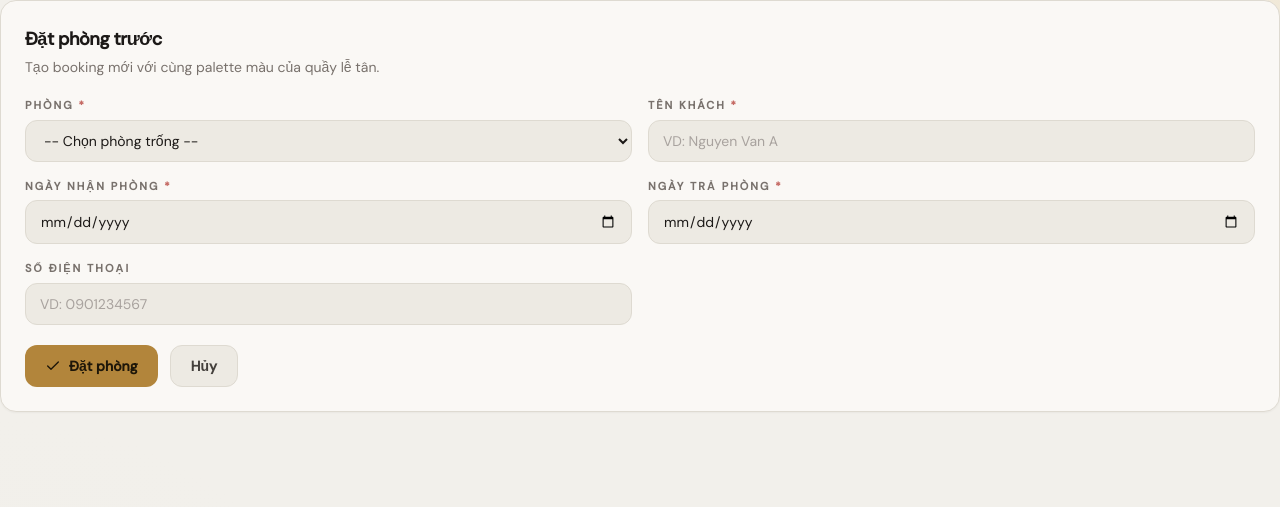
Test: CreateBookingForm › shows phone validation error for invalid phone number
This screenshot has width=1280, height=507.
Type "abc123" into the field with placeholder "VD: 0901234567".
click(328, 304); type("abc123")  # box [25, 282, 632, 324]
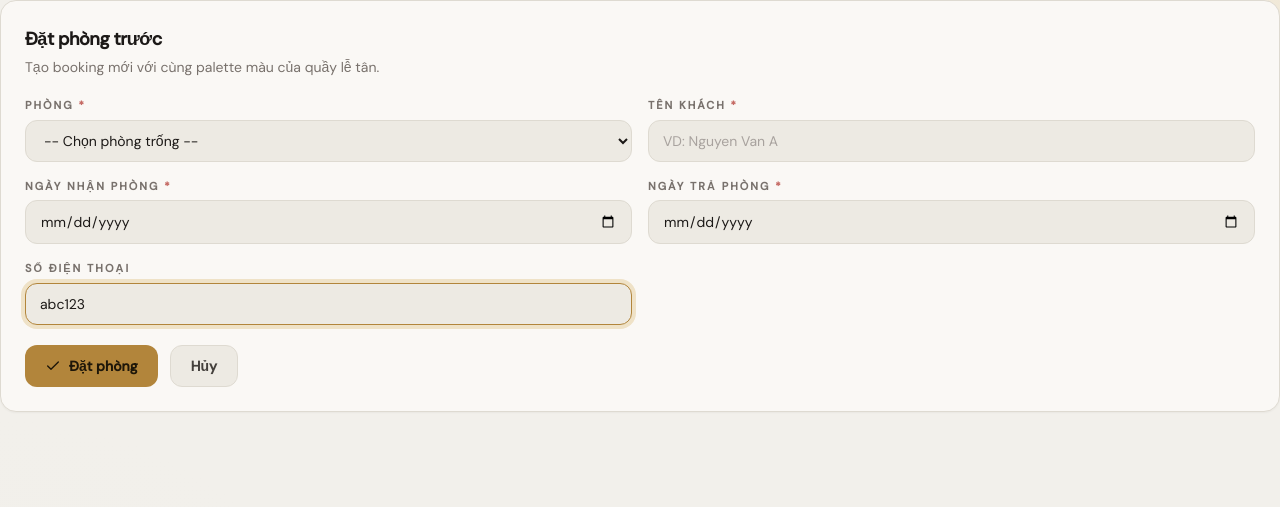
Click the button "Đặt phòng".
click(91, 366)  # box [25, 344, 158, 386]
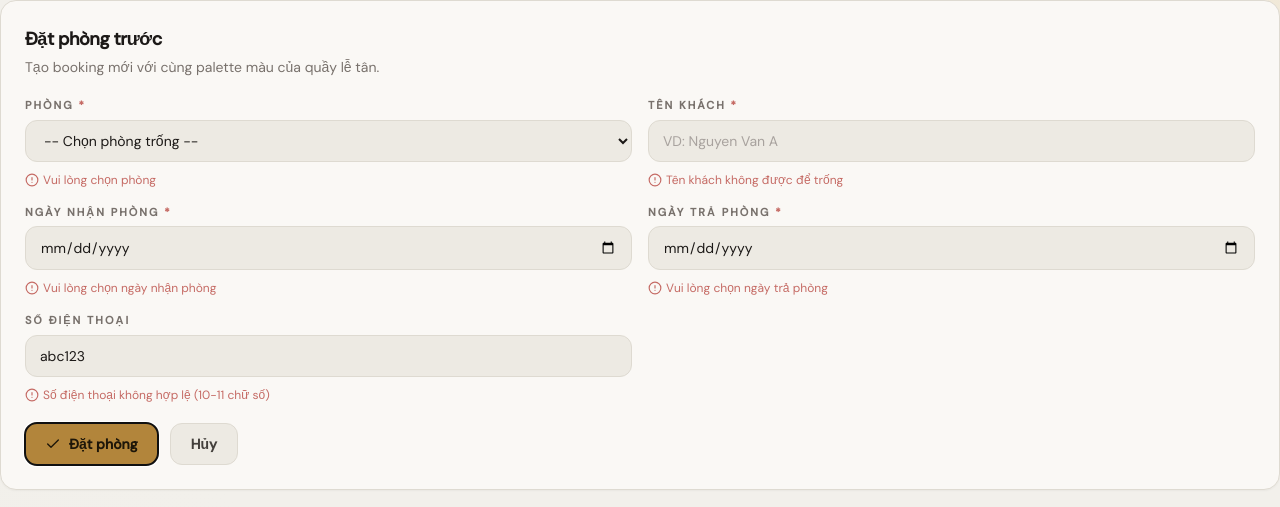
Check: the text "Số điện thoại không hợp lệ (10-11 chữ số)" is shown, box [25, 386, 270, 402]
